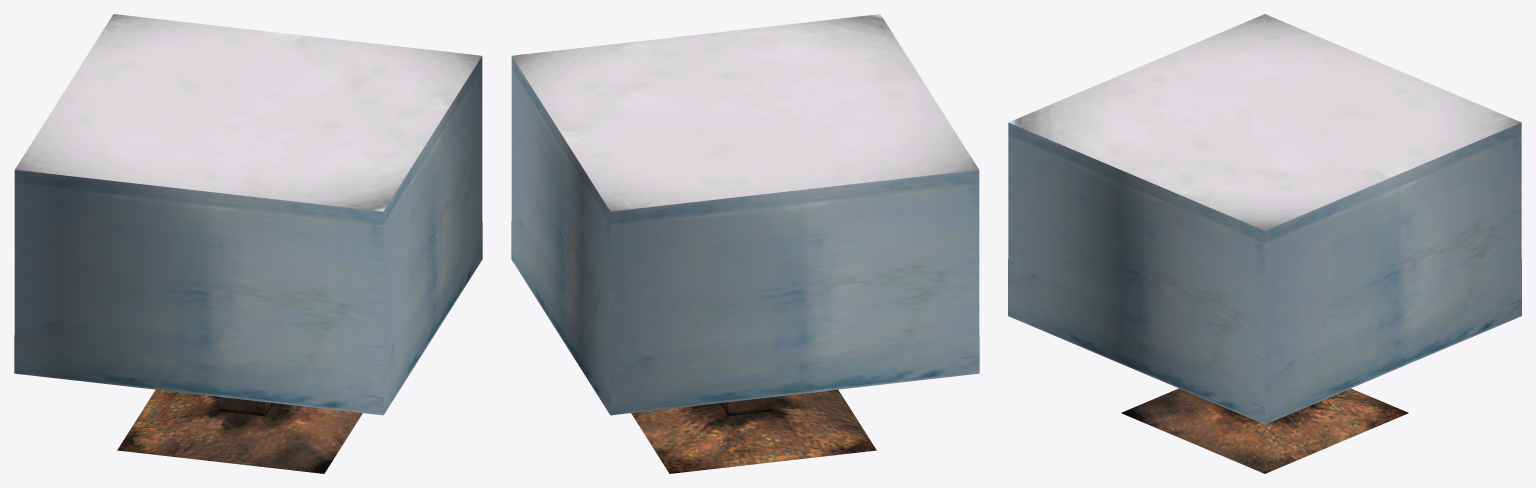
Rendered from thm_frn_table_s01_l3.fbx.
The picture shows the model from 3 angles, left to right: view 1: azimuth 30°, elevation 25°; view 2: azimuth 150°, elevation 25°; view 3: azimuth 270°, elevation 25°; orthographic projection. The views are drawn at different scales.
Parts seen in each view (by area): view 1: mesh_node; view 2: mesh_node; view 3: mesh_node.
Boxes of the visible parts, left/top/right/bottom form: mesh_node: left=14, top=14, right=482, bottom=473; mesh_node: left=511, top=14, right=979, bottom=473; mesh_node: left=1008, top=14, right=1521, bottom=473.
Size of the model in its own units: 1.2 by 0.7502 by 1.2.
Materials: 1 (1 with a texture image).
